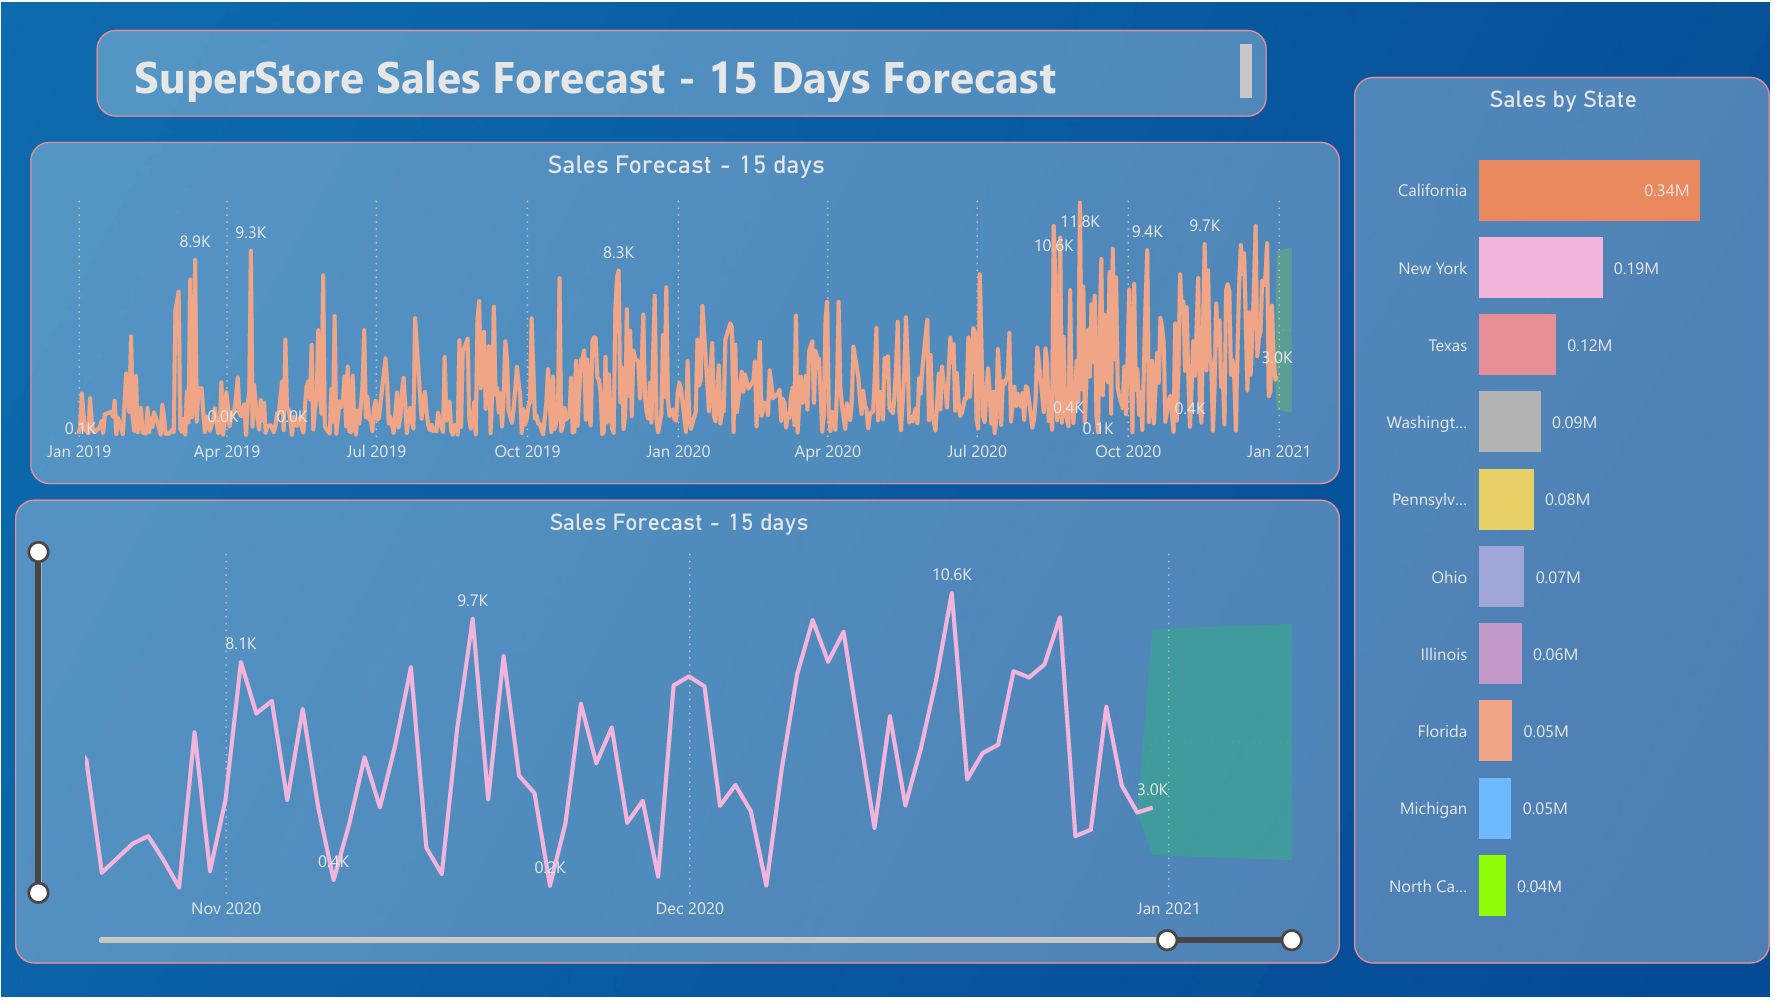

What the dashboard file says about the page in this screenshot:
{"tool":"powerbi","page":{"name":"Page 2","canvas":[1280,720],"ordinal":1},"visuals":[{"type":"lineChart","title":"Sales Forecast - 15 days","fields":{"Y":["Sum(SuperStore_Sales_Dataset.Sales)"],"Category":["SuperStore_Sales_Dataset.Order Date"]},"box":[21.4,101.4,947.1,247.1],"z":0},{"type":"lineChart","title":"Sales Forecast - 15 days","fields":{"Y":["Sum(SuperStore_Sales_Dataset.Sales)"],"Category":["SuperStore_Sales_Dataset.Order Date"]},"box":[10,360,958.6,335.7],"z":1000},{"type":"barChart","title":"Sales by State","fields":{"Y":["Sum(SuperStore_Sales_Dataset.Sales)"],"Category":["SuperStore_Sales_Dataset.State"]},"box":[978.6,54.3,301.4,641.4],"z":2000},{"type":"textbox","box":[68.6,20,847.1,62.9],"z":3000}]}

Visuals, with their boxes in screenshot pixels (x1, y1, x2, y2), scaled from the page's 1280x720 canvas onto the 1775x1003 screenshot:
"Sales Forecast - 15 days" lineChart: select_region(30, 141, 1343, 485)
"Sales Forecast - 15 days" lineChart: select_region(14, 502, 1343, 969)
"Sales by State" barChart: select_region(1357, 76, 1774, 969)
textbox: select_region(95, 28, 1270, 115)
